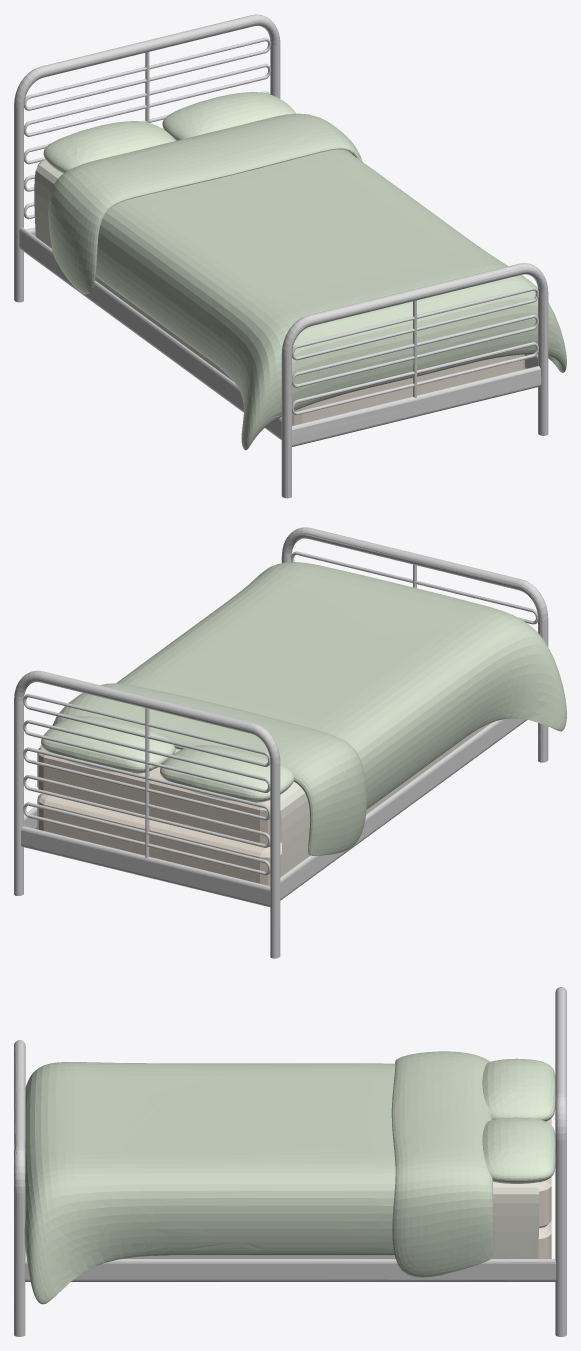
The model's file is b0-bed1.glb.
3 views of the same model, one above another, from view 1: azimuth 30°, elevation 25°; view 2: azimuth 150°, elevation 25°; view 3: azimuth 270°, elevation 25° (orthographic).
Parts seen in each view (by area): view 1: Plane.003_Plane.004, Circle, Cube.009_Cube.010, Cube.008_Cube.006, Cube.010_Cube.011, Plane.004_Plane.005; view 2: Plane.003_Plane.004, Circle, Cube.008_Cube.006, Cube.007_Cube.004, Cube.010_Cube.011, Cube.009_Cube.010, Plane.004_Plane.005; view 3: Plane.003_Plane.004, Circle, Plane.004_Plane.005, Cube.010_Cube.011, Cube.009_Cube.010, Cube.007_Cube.004, Cube.008_Cube.006.
Part boxes in pixels (left/top/right/bottom): Plane.003_Plane.004: left=48, top=113, right=566, bottom=450; Circle: left=14, top=14, right=548, bottom=498; Cube.009_Cube.010: left=43, top=121, right=175, bottom=173; Cube.008_Cube.006: left=231, top=354, right=524, bottom=425; Cube.010_Cube.011: left=162, top=92, right=295, bottom=140; Plane.004_Plane.005: left=34, top=160, right=231, bottom=379; Plane.003_Plane.004: left=52, top=562, right=566, bottom=855; Circle: left=14, top=527, right=548, bottom=958; Cube.008_Cube.006: left=37, top=723, right=490, bottom=885; Cube.007_Cube.004: left=37, top=746, right=282, bottom=846; Cube.010_Cube.011: left=41, top=716, right=175, bottom=773; Cube.009_Cube.010: left=160, top=745, right=294, bottom=802; Plane.004_Plane.005: left=39, top=729, right=478, bottom=876; Plane.003_Plane.004: left=24, top=1051, right=493, bottom=1304; Circle: left=14, top=987, right=566, bottom=1336; Plane.004_Plane.005: left=136, top=1182, right=538, bottom=1258; Cube.010_Cube.011: left=482, top=1117, right=555, bottom=1183; Cube.009_Cube.010: left=482, top=1058, right=555, bottom=1121; Cube.007_Cube.004: left=29, top=1078, right=551, bottom=1228; Cube.008_Cube.006: left=123, top=1221, right=551, bottom=1258.
Bounding box in the file's own units: 1.41 × 0.9551 × 2.08.
